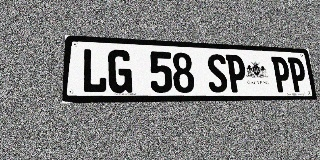5: (150, 51, 173, 93)
8: (172, 52, 195, 93)
G: (108, 49, 132, 93)
L: (81, 48, 107, 93)
P: (226, 54, 247, 92), (271, 56, 292, 92), (287, 57, 308, 92)
S: (206, 54, 229, 93)
